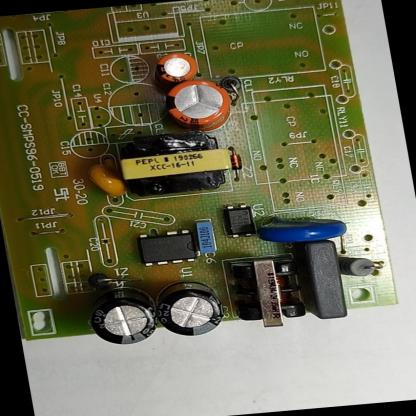Cap1: (162, 78, 236, 134)
Cap2: (154, 50, 201, 84)
Cap3: (152, 278, 228, 340)
Cap4: (84, 284, 162, 350)
MOSFET: (135, 228, 200, 268)
Mov: (254, 213, 350, 247)
Resistor: (338, 251, 388, 280)
Transformer: (111, 128, 238, 198), (223, 252, 314, 335)
